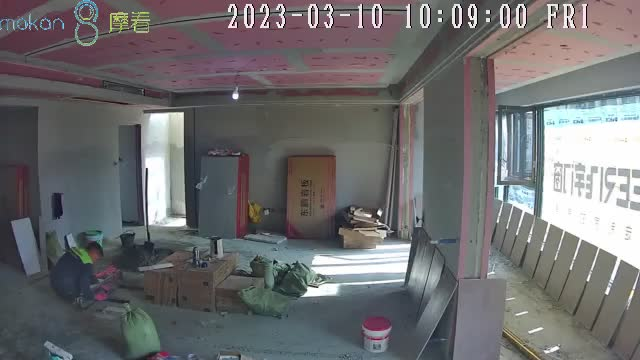people: (50, 241, 105, 303)
window: (498, 97, 640, 268)
